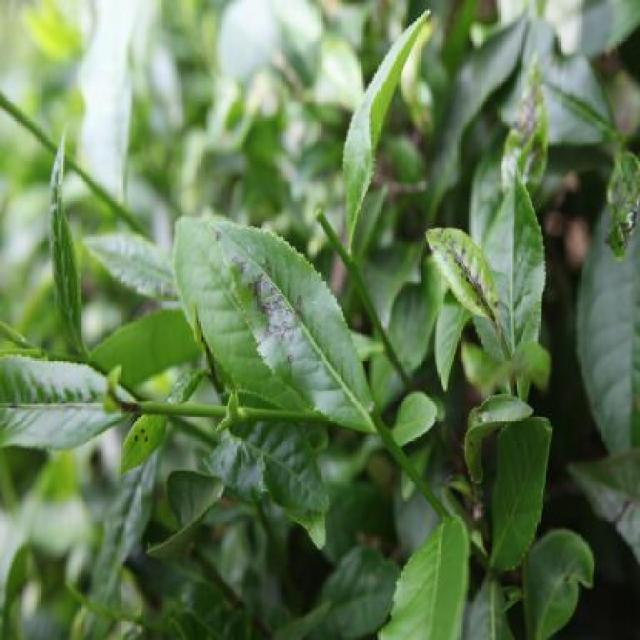Tea Mosquito bug infested leaf: (223, 215, 377, 423), (420, 189, 511, 371)
